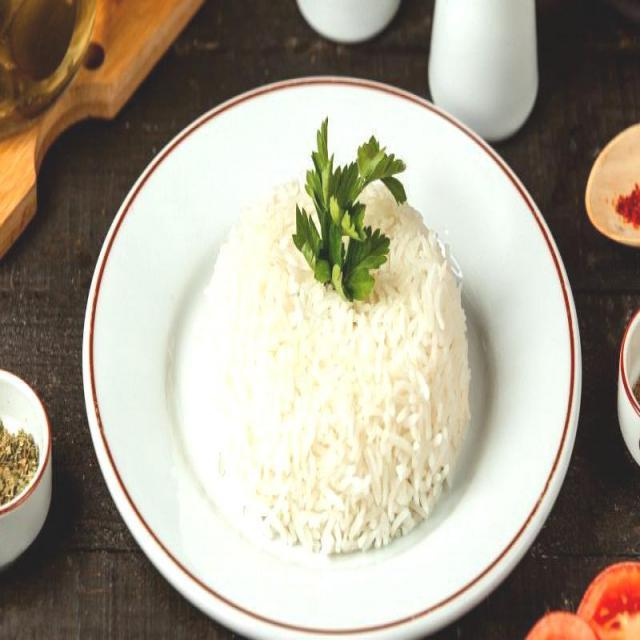rice: (197, 165, 470, 557)
